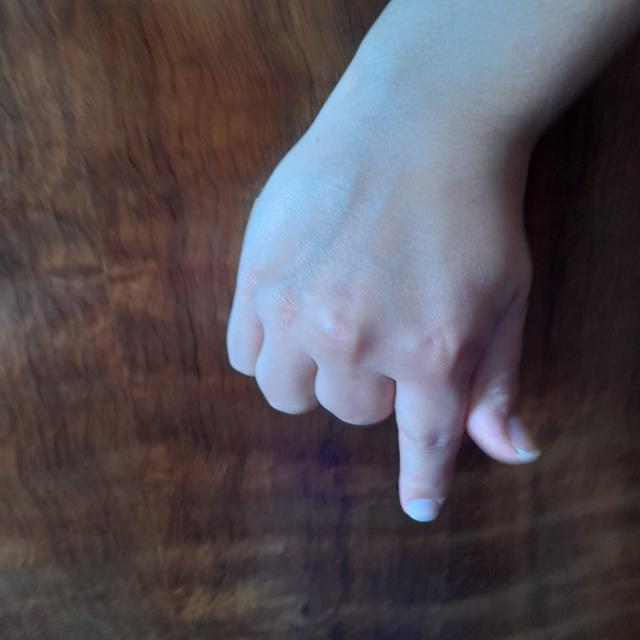Q: (224, 62, 547, 532)
